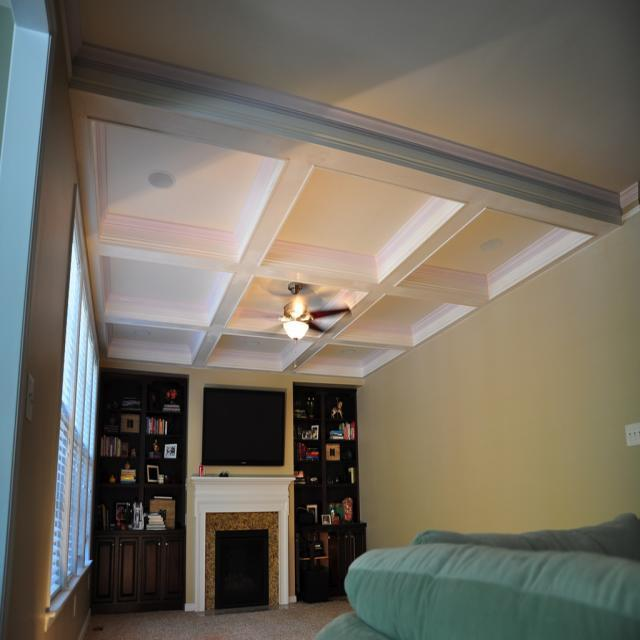fan_on: (249, 277, 355, 342)
